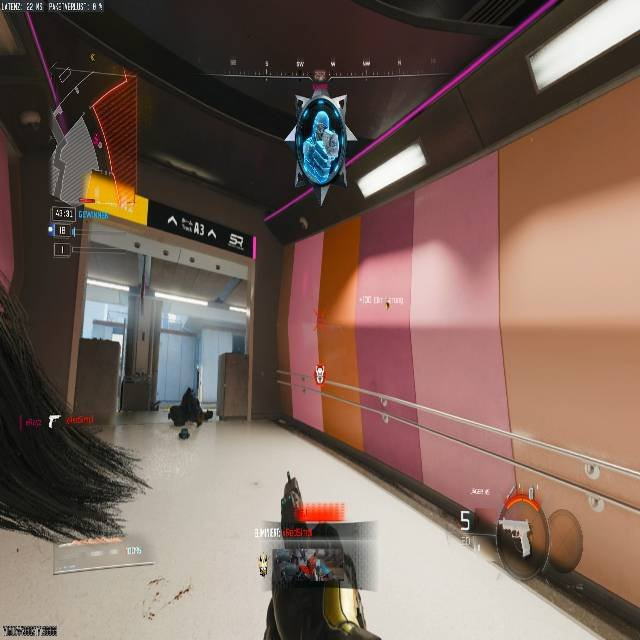head: (297, 94, 344, 142)
player: (257, 523, 383, 639), (292, 93, 359, 201), (168, 386, 207, 440)
